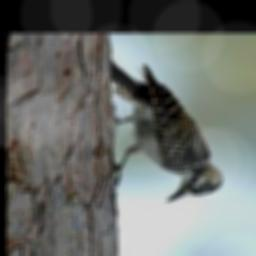Woodpecker: (99, 57, 227, 203)
